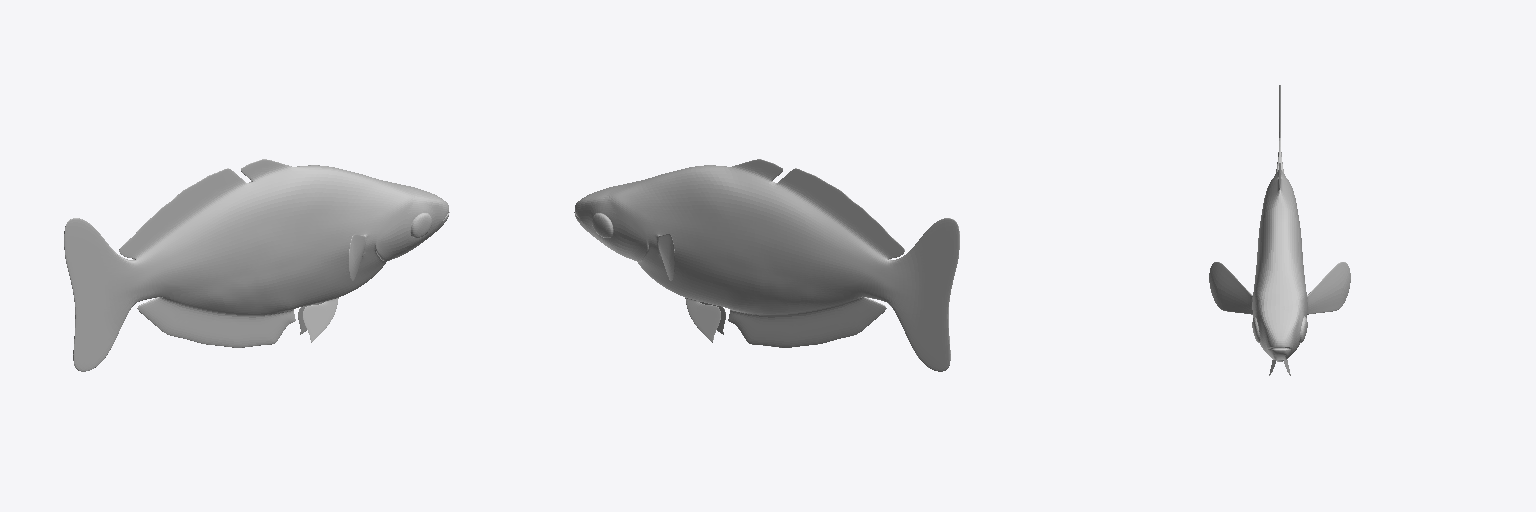
File: fish3.obj
3 renders of one model, left to right at view 1: azimuth 30°, elevation 25°; view 2: azimuth 150°, elevation 25°; view 3: azimuth 270°, elevation 25°, orthographic.
Visible parts, largest first — view 1: fish3; view 2: fish3; view 3: fish3.
Part boxes in pixels (x1,y1,x2,y2): fish3: (64, 159, 449, 371); fish3: (574, 159, 959, 371); fish3: (1209, 85, 1350, 375).
Size of the model in its own units: 10.98 by 5.2 by 3.51.